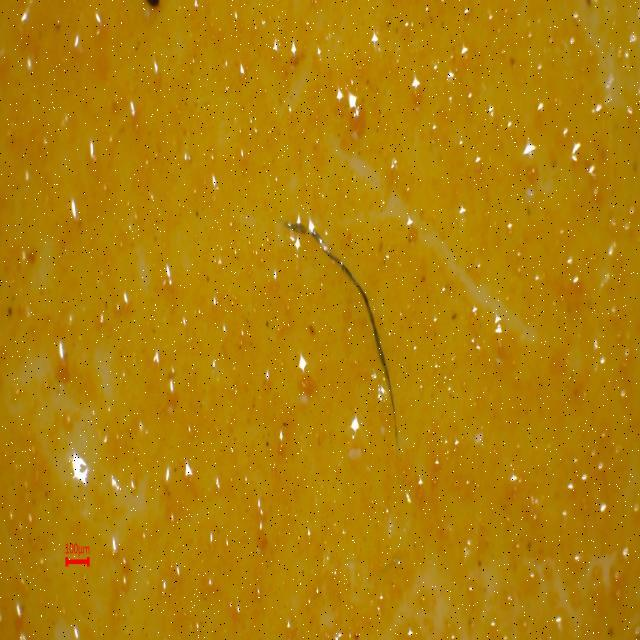Fibre: (283, 214, 401, 451)
